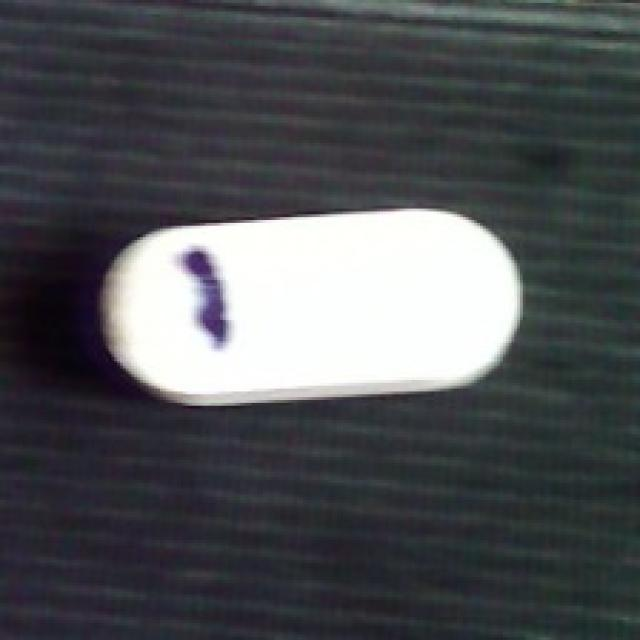defected: (91, 203, 532, 408)
